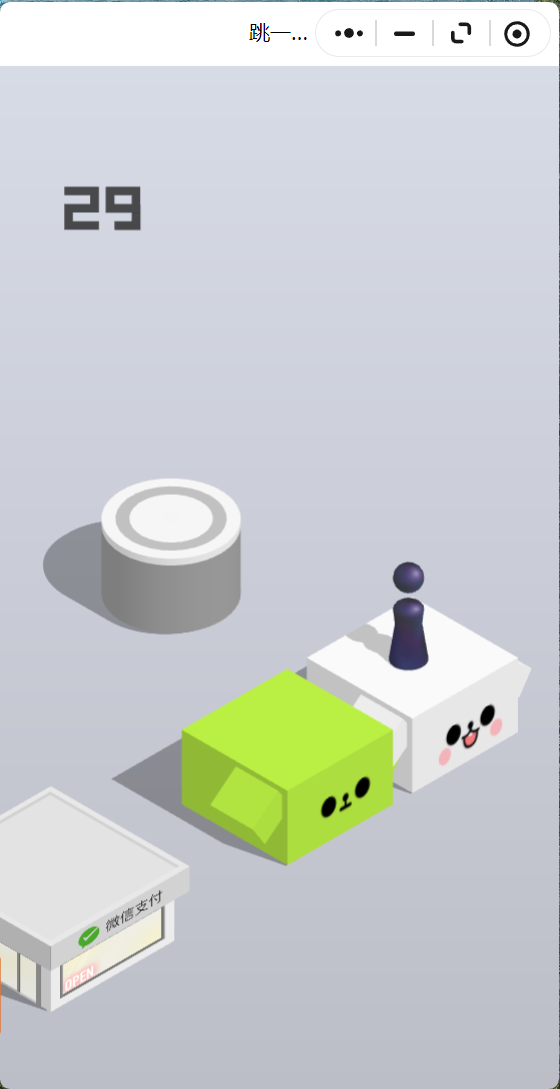piece: (393, 562, 424, 669)
target: (101, 478, 241, 558)
